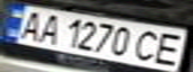0: (112, 24, 136, 58)
1: (57, 16, 84, 50)
2: (75, 18, 100, 53)
7: (93, 20, 115, 55)
A: (9, 8, 48, 41), (30, 11, 66, 45)
C: (130, 28, 166, 63)
E: (148, 29, 190, 66)
